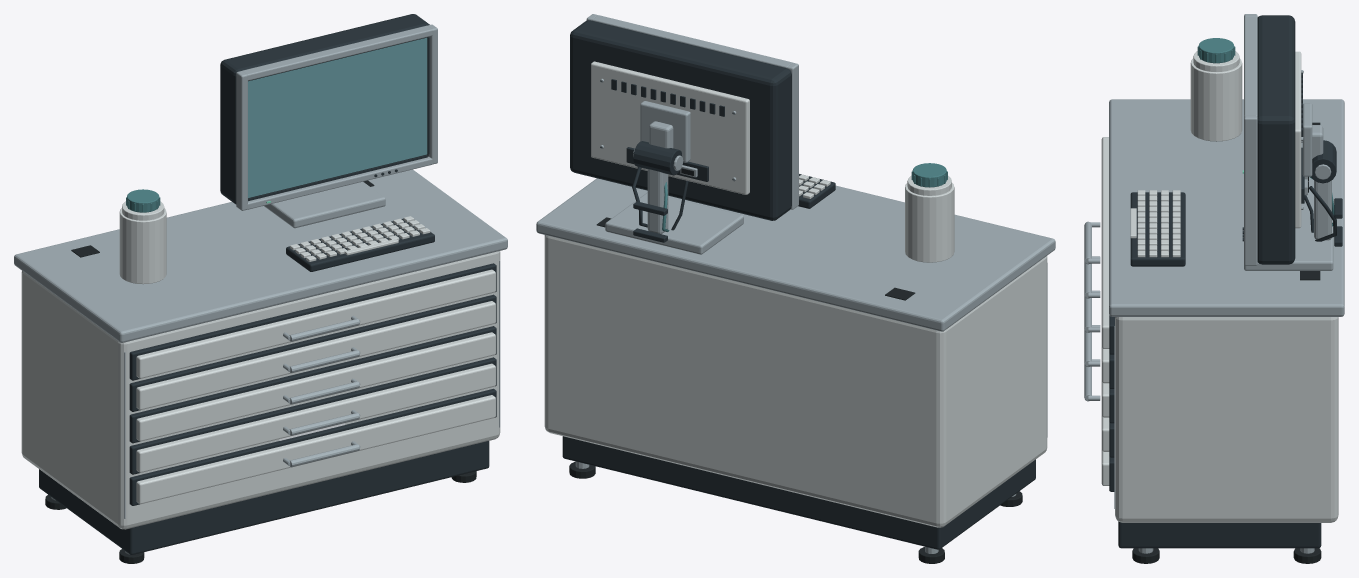
The model's file is SF_IsolationNurseStation.fbx.
3 views of the same model, side by side, from view 1: azimuth 30°, elevation 25°; view 2: azimuth 150°, elevation 25°; view 3: azimuth 270°, elevation 25° (orthographic). The views are drawn at different scales.
Parts seen in each view (by area): view 1: SF_IsolationNurseStation; view 2: SF_IsolationNurseStation; view 3: SF_IsolationNurseStation.
Part boxes in pixels (x1,y1,x2,y2): SF_IsolationNurseStation: (14,14,507,563); SF_IsolationNurseStation: (536,14,1055,563); SF_IsolationNurseStation: (1084,14,1344,563).
Size of the model in its own units: 142 by 145 by 75.65.
